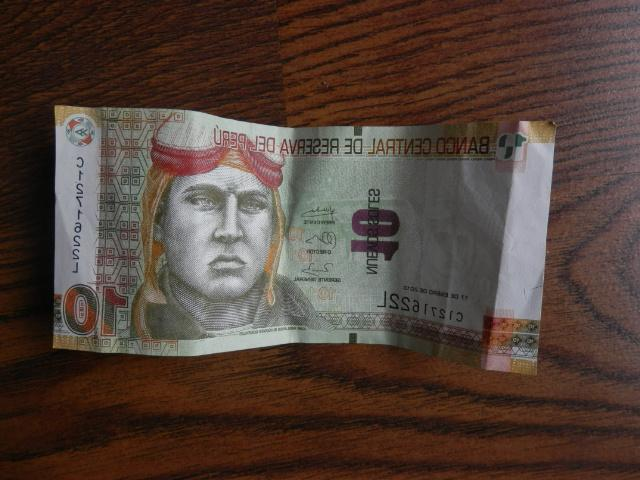B10: (51, 102, 556, 377)
